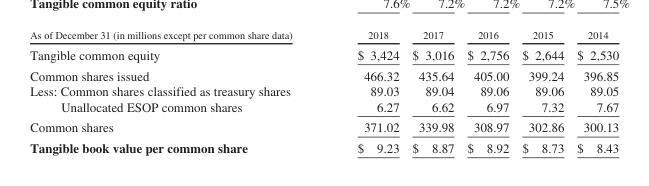table: (29, 28, 618, 154)
table column: (29, 28, 324, 154), (324, 28, 405, 154), (405, 28, 460, 154), (514, 28, 569, 154), (460, 28, 514, 154), (569, 28, 618, 154)
table column header: (29, 28, 618, 43)
table row: (29, 43, 618, 64), (29, 116, 618, 136), (29, 64, 618, 82), (29, 98, 618, 116), (29, 136, 618, 154), (29, 82, 618, 98), (29, 28, 618, 43)
